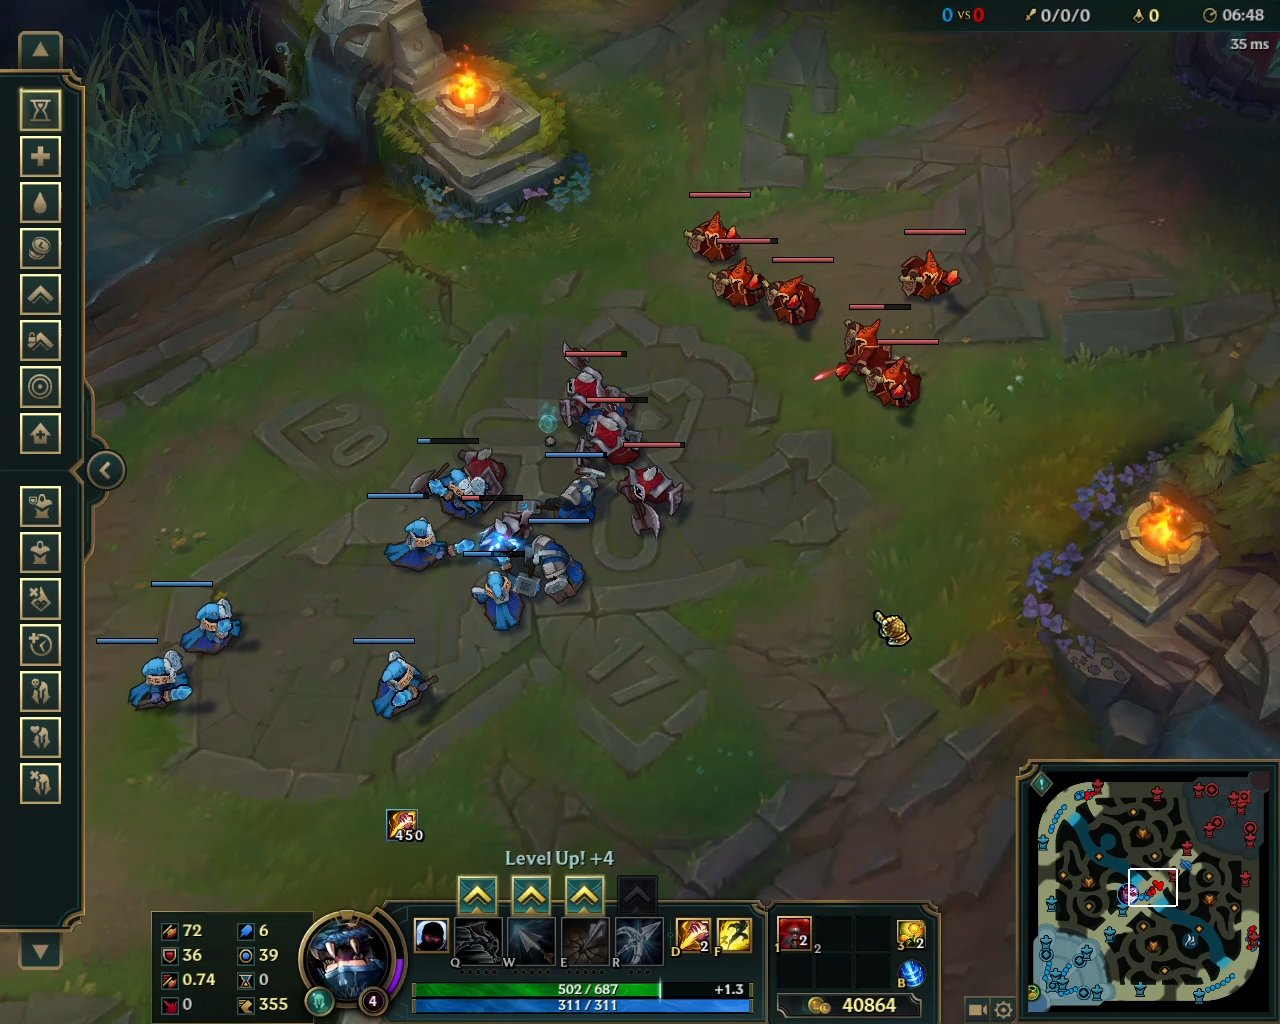EnemyMinion: (612, 442, 686, 545), (555, 344, 631, 424), (835, 302, 911, 382), (893, 228, 970, 306), (573, 396, 649, 473), (761, 257, 834, 330), (707, 238, 778, 309), (869, 339, 939, 410), (683, 194, 751, 266), (466, 496, 526, 559)
